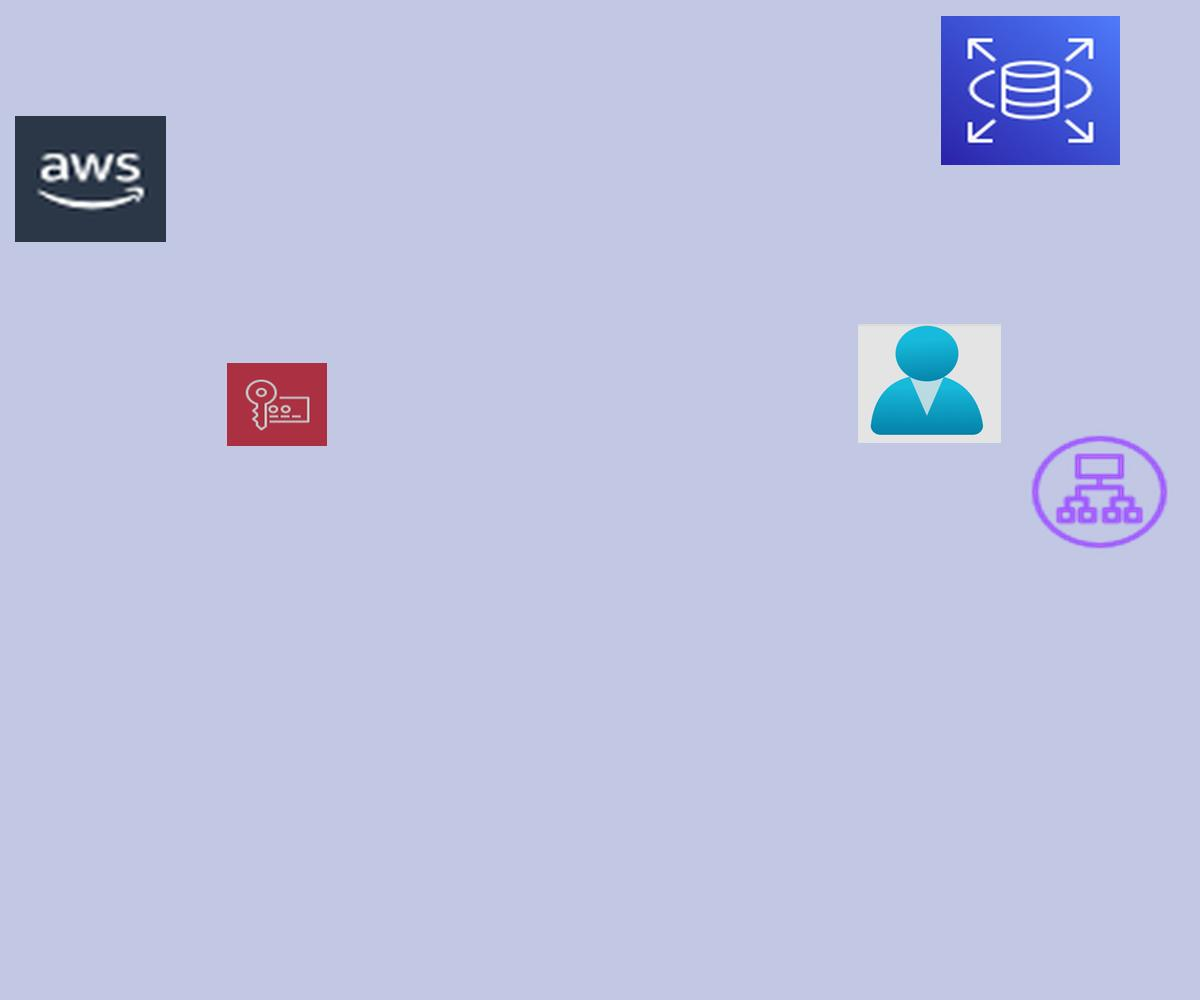AWS-Cloud-logo: (15, 116, 166, 242)
AWS-Key-Management-Service: (227, 363, 327, 446)
AWS-RDS: (941, 16, 1120, 165)
AWS-Res_Elastic-Load-Balancing_Application-Load-Balancer: (1026, 431, 1173, 553)
Azure_users: (858, 324, 1001, 443)
